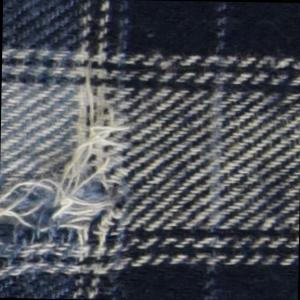Damage: (1, 47, 140, 285)
